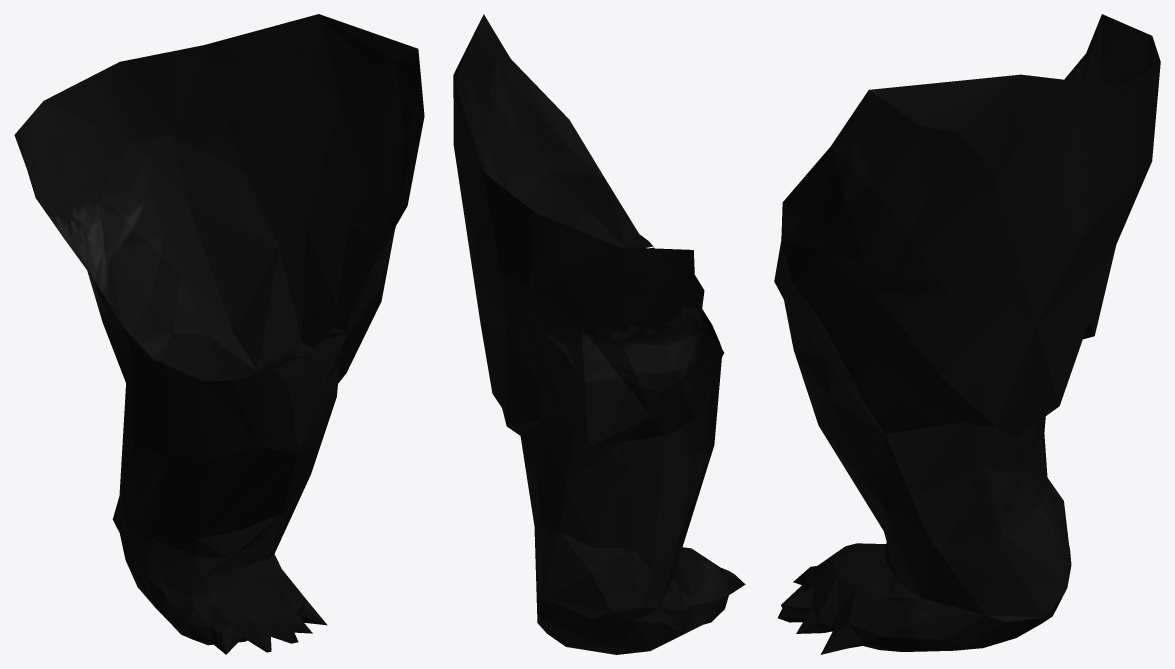
File: PataTraseraIP.obj
3 renders of one model, left to right at view 1: azimuth 30°, elevation 25°; view 2: azimuth 150°, elevation 25°; view 3: azimuth 270°, elevation 25°, orthographic. The views are drawn at different scales.
Parts seen in each view (by area): view 1: panda.002; view 2: panda.002; view 3: panda.002.
Boxes of the visible parts, <box> form: panda.002: <box>14,14,424,654</box>; panda.002: <box>453,14,745,654</box>; panda.002: <box>774,14,1160,654</box>.
Bounding box in the file's own units: 0.622 × 1.06 × 0.5805.
